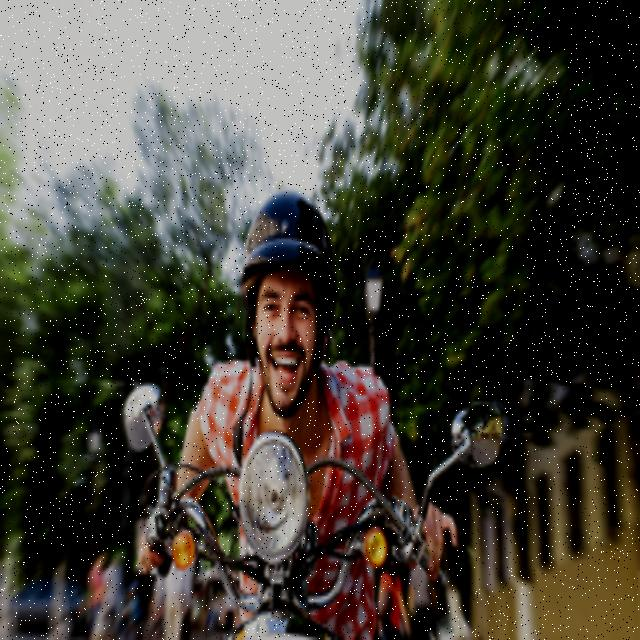not_triplets: (113, 153, 462, 640)
with-helmet: (236, 185, 344, 411)
